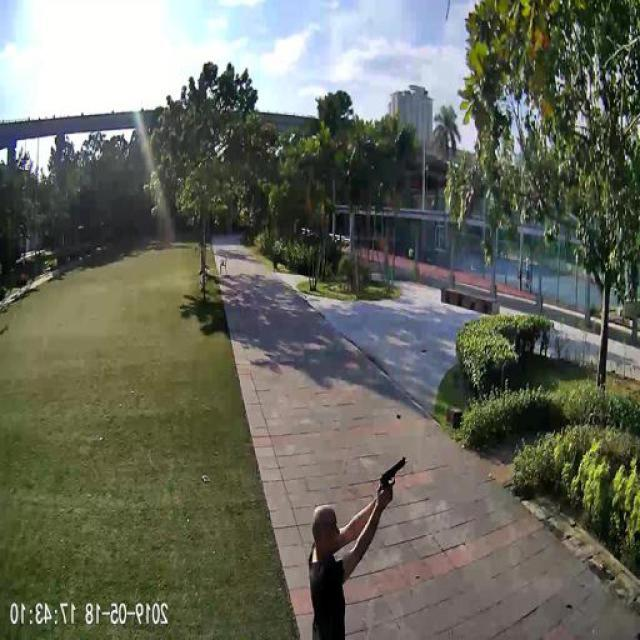weapon: (374, 457, 412, 499)
